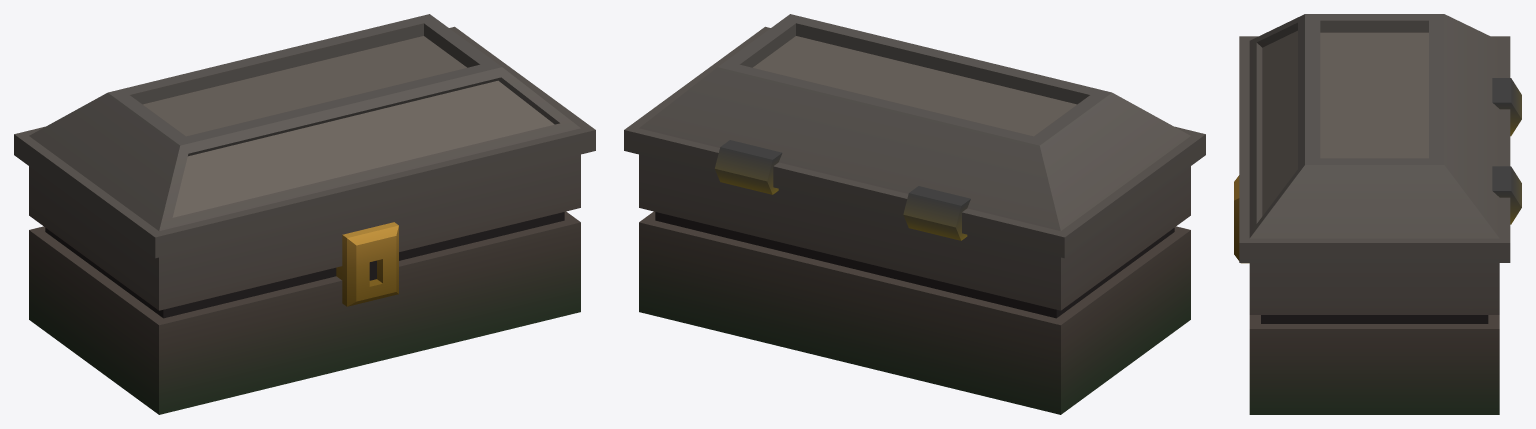
File: TreasureChest_ancient.fbx
3 views of the same model, side by side, from view 1: azimuth 30°, elevation 25°; view 2: azimuth 150°, elevation 25°; view 3: azimuth 270°, elevation 25° (orthographic). The views are drawn at different scales.
Visible parts, largest first — view 1: TreasureChest_ancient; view 2: TreasureChest_ancient; view 3: TreasureChest_ancient.
Boxes of the visible parts, x1,y1,x2,y2 form: TreasureChest_ancient: [14, 14, 595, 414]; TreasureChest_ancient: [624, 14, 1205, 414]; TreasureChest_ancient: [1234, 14, 1521, 414].
Size of the model in its own units: 555 by 284 by 327.
